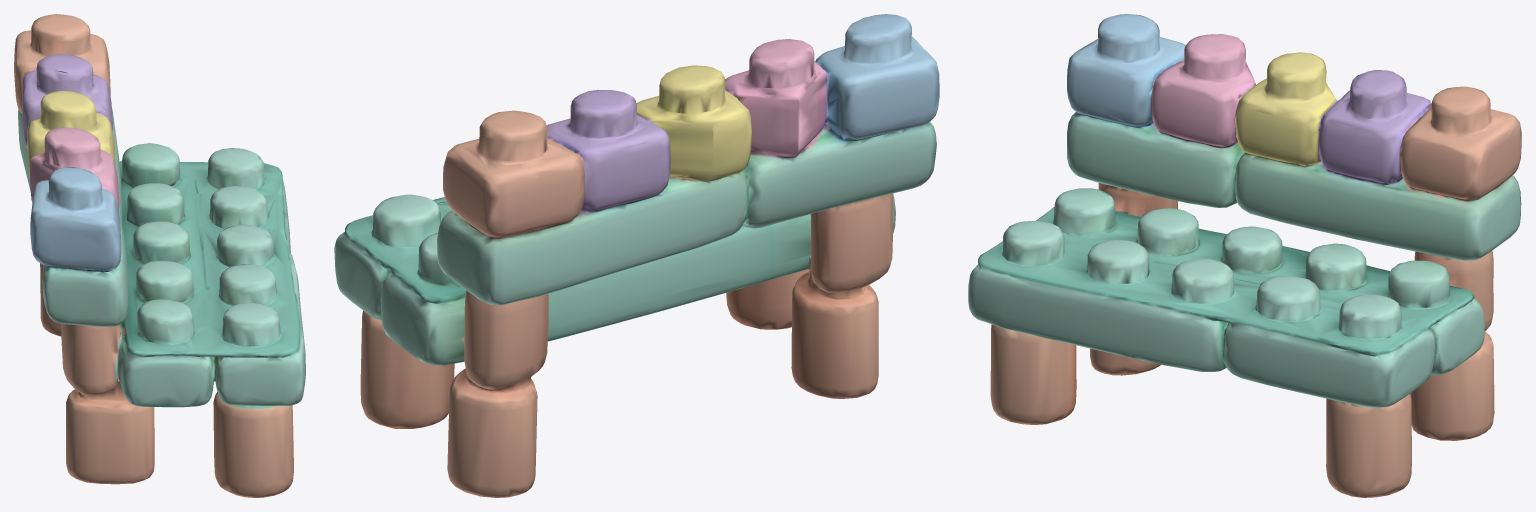
3 renders of one model, left to right at view 1: azimuth 30°, elevation 25°; view 2: azimuth 150°, elevation 25°; view 3: azimuth 270°, elevation 25°, orthographic. The views are drawn at different scales.
Parts seen in each view (by area): view 1: repaired; view 2: repaired; view 3: repaired.
Boxes of the visible parts, left/top/right/bottom form: repaired: left=14, top=14, right=305, bottom=497; repaired: left=334, top=14, right=939, bottom=497; repaired: left=968, top=14, right=1521, bottom=497.
Bounding box in the file's own units: 0.8143 × 0.6432 × 0.9999.
1 material, 1 textured.
